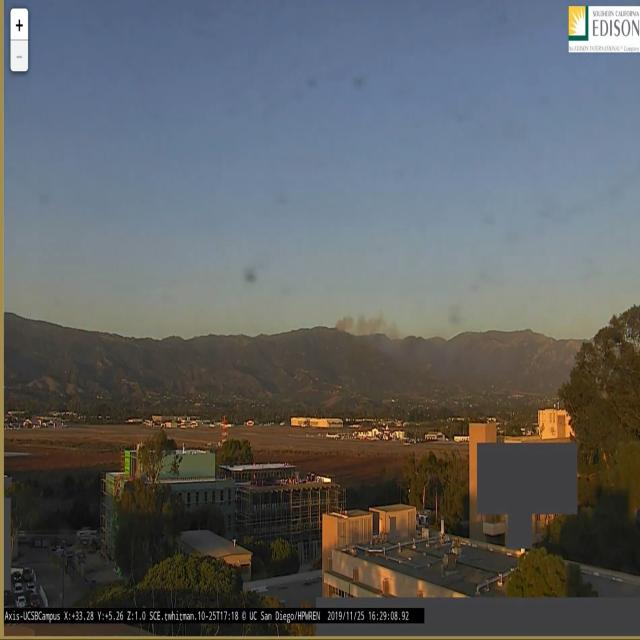smoke: (336, 310, 394, 337)
